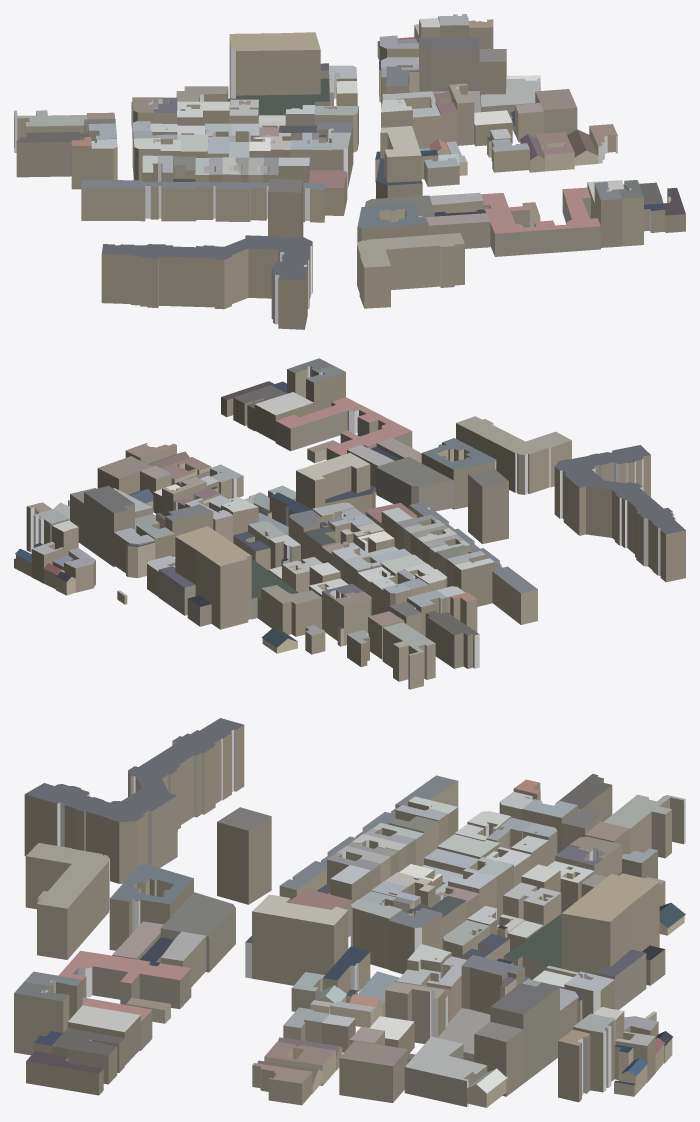
The picture shows the model from 3 angles, top to bottom: view 1: azimuth 30°, elevation 25°; view 2: azimuth 150°, elevation 25°; view 3: azimuth 270°, elevation 25°; orthographic projection. The views are drawn at different scales.
Visible parts, largest first — view 1: tuile; view 2: tuile; view 3: tuile.
Part boxes in pixels (x1=…): tuile: x1=14, y1=14, x2=685, y2=329; tuile: x1=14, y1=358, x2=685, y2=689; tuile: x1=14, y1=718, x2=685, y2=1107.
Bounding box in the file's own units: 312 × 37.93 × 266.
